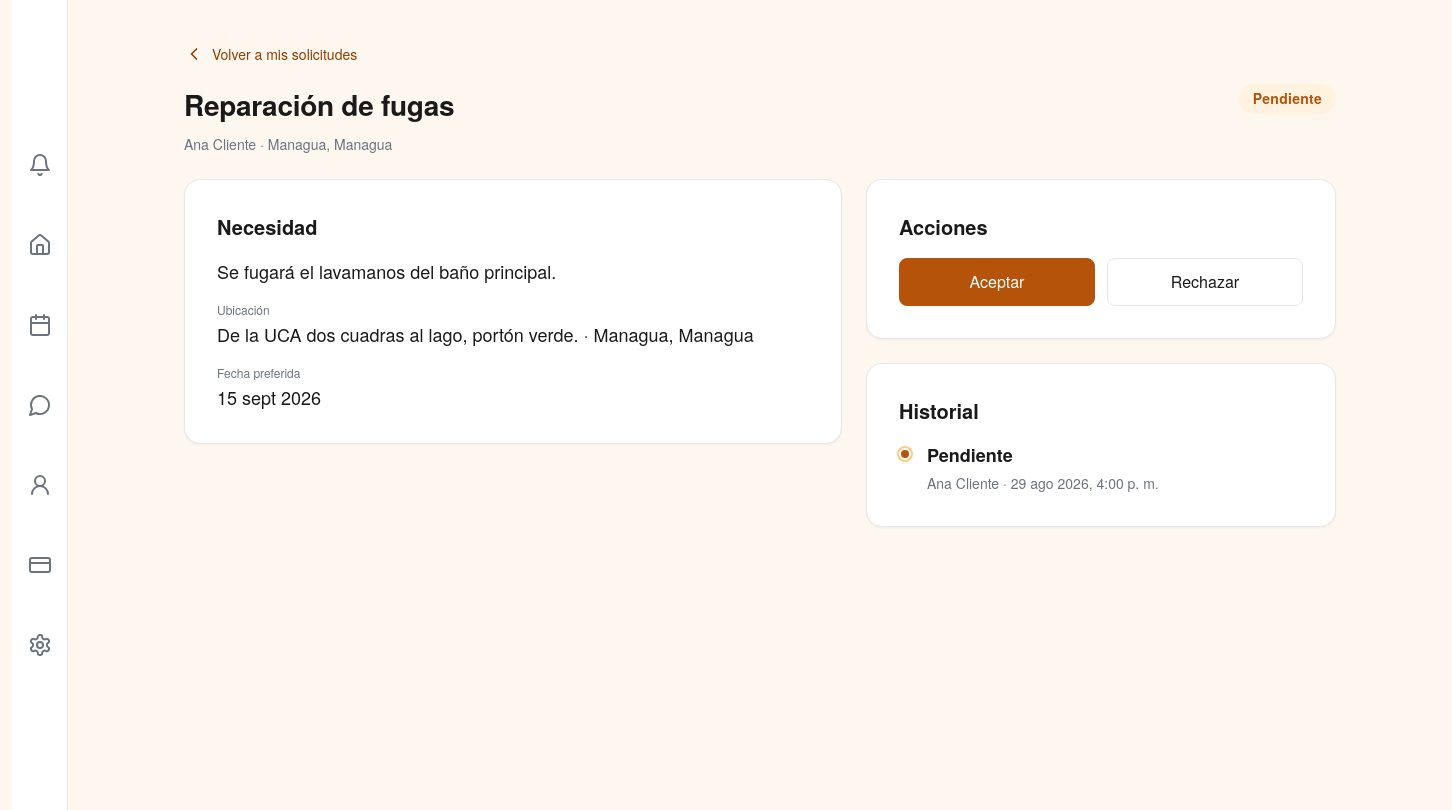
it: Detalle de solicitud › acepta y actualiza el estado
The width and height of the screenshot is (1452, 810).
What coordinates should you click on to do the following:
click the button "Aceptar"
I would click on:
 (997, 282)
Its box is [899,258,1095,306].
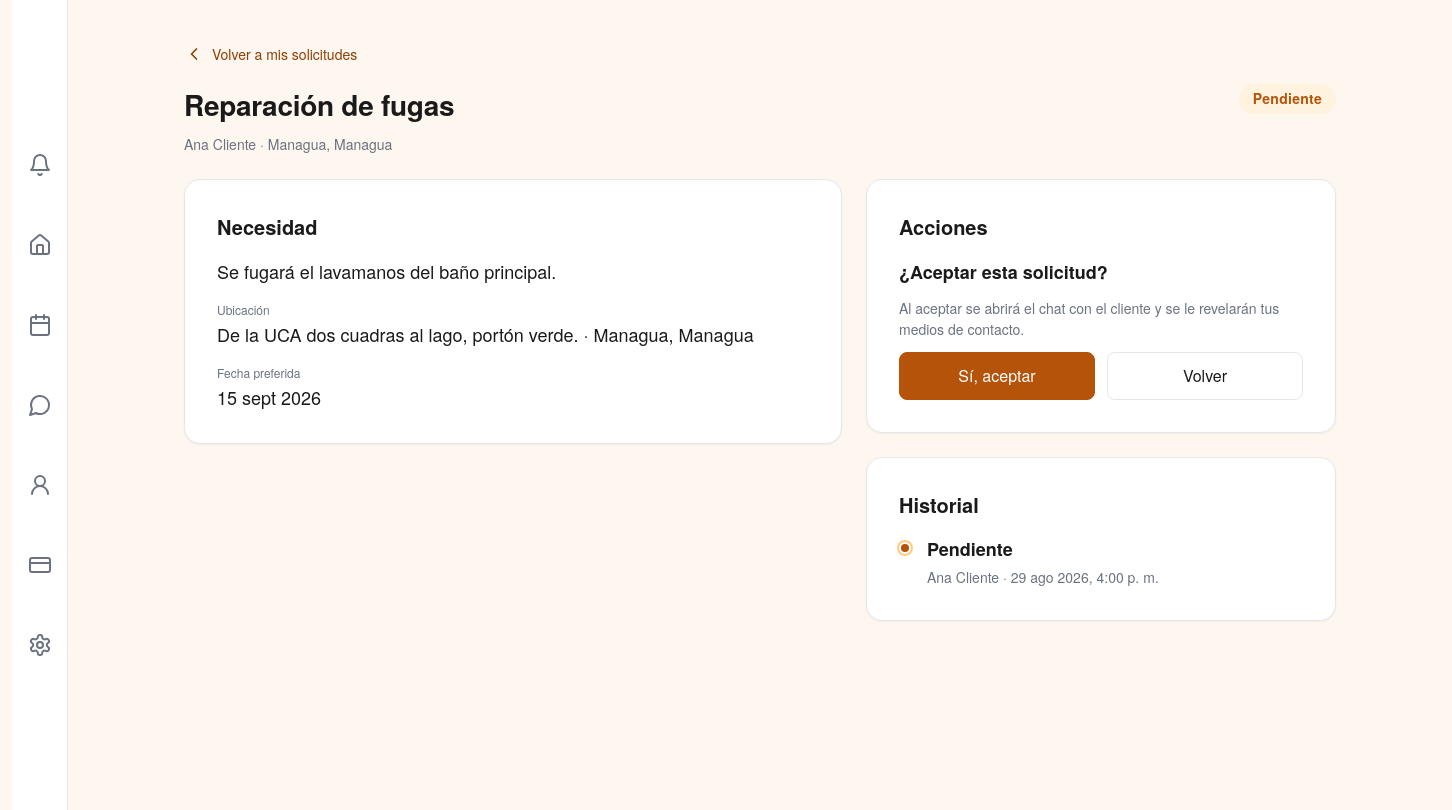
What coordinates should you click on to do the following:
click the button "Sí, aceptar"
I would click on:
 (997, 376)
Its box is [899,352,1095,400].
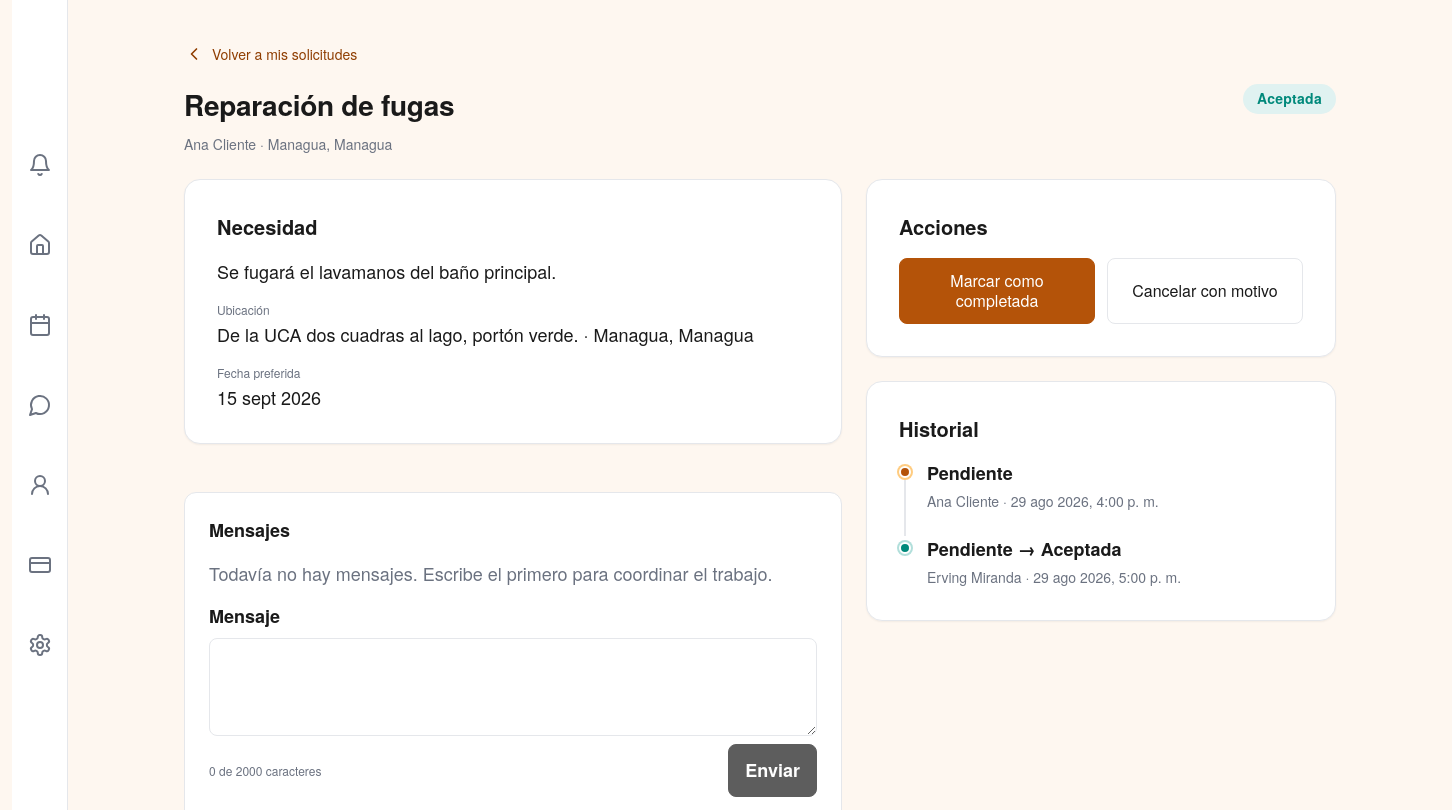
Result: the text "Aceptada" is shown at [1243,84,1336,114]
Result: the button "Marcar como completada" is shown at [899,258,1095,324]
Result: the button "Cancelar con motivo" is shown at [1107,258,1303,324]
